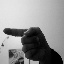g: (1, 26, 50, 62)
